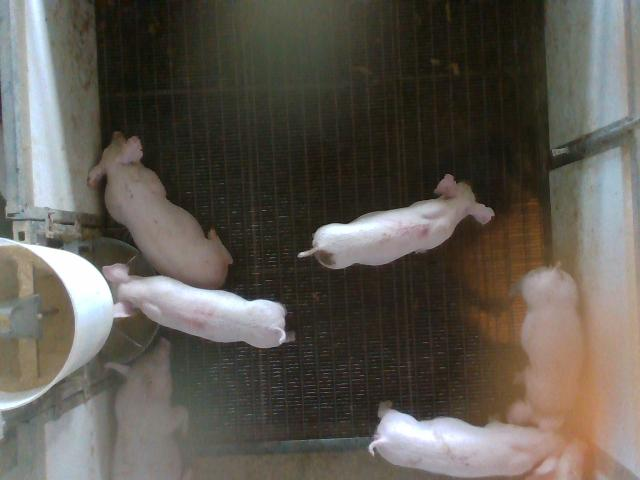pig-4: (102, 264, 286, 348)
pig-5: (298, 174, 495, 268)
